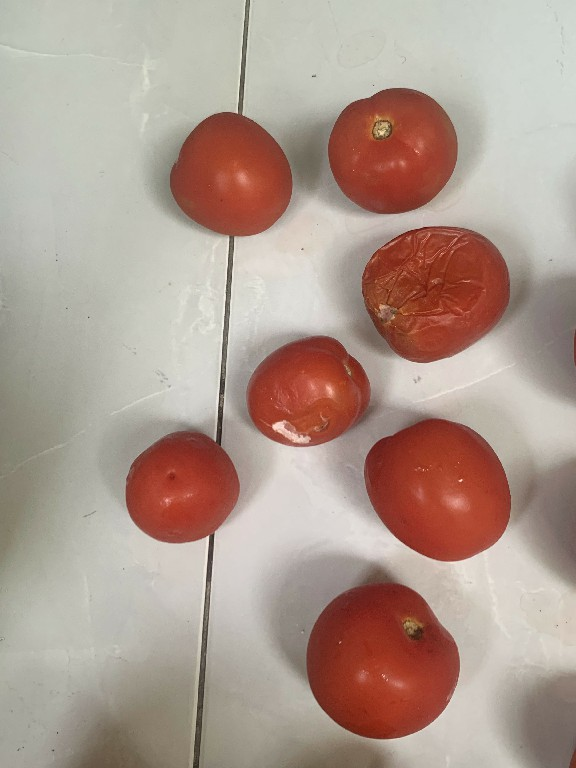NG: (356, 228, 515, 366), (244, 330, 368, 451)
OK: (298, 574, 472, 752), (353, 413, 513, 567), (159, 100, 302, 248), (324, 75, 460, 217), (113, 420, 240, 550)
